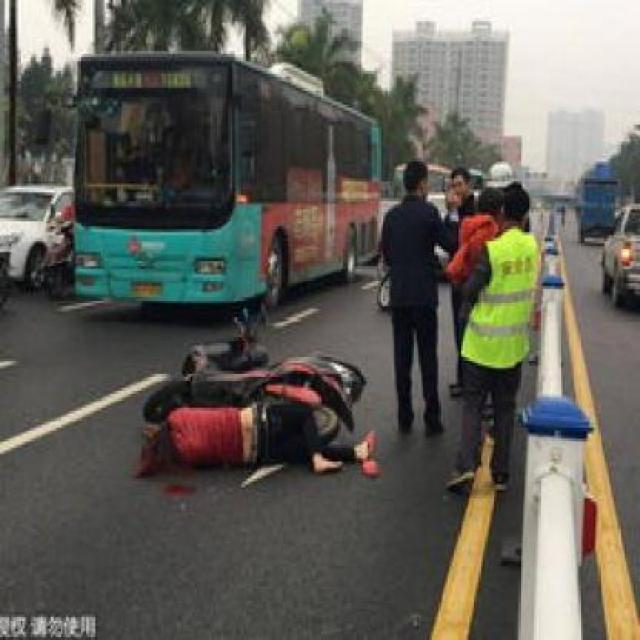fall: (126, 390, 382, 490)
